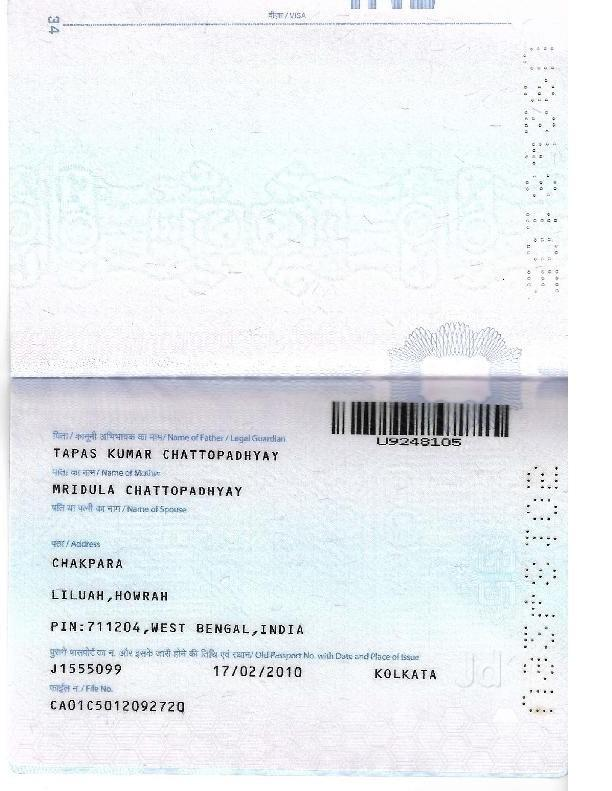File_no: (41, 697, 189, 721)
address: (43, 551, 324, 641)
father_name: (51, 439, 284, 467)
mother_name: (42, 474, 249, 505)
old_passport_details: (41, 656, 455, 686)
passport_no: (372, 432, 462, 452)
